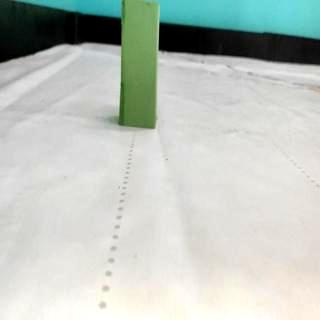greenbox: (122, 0, 160, 129)
